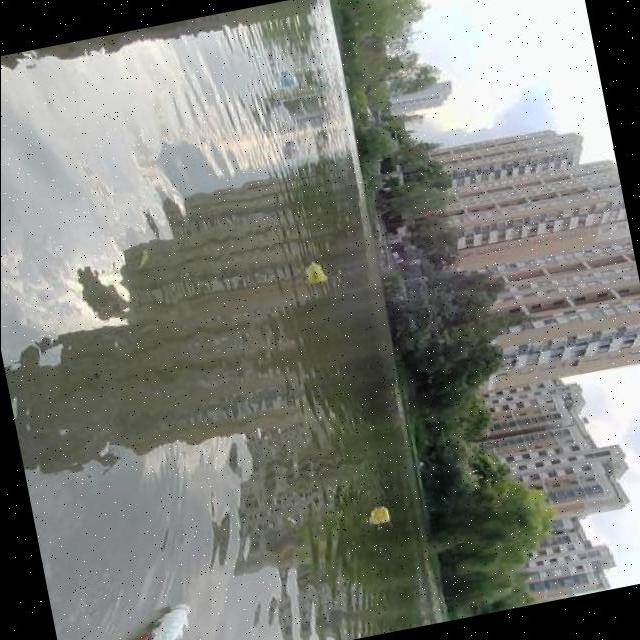Bottle: (361, 493, 399, 539)
